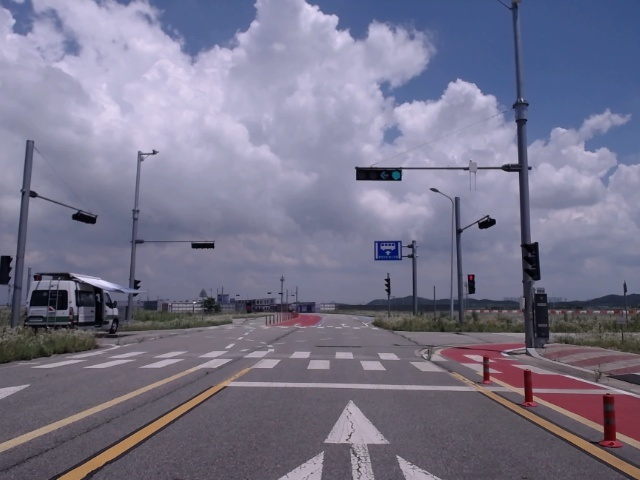all_green_4: (352, 169, 402, 180)
